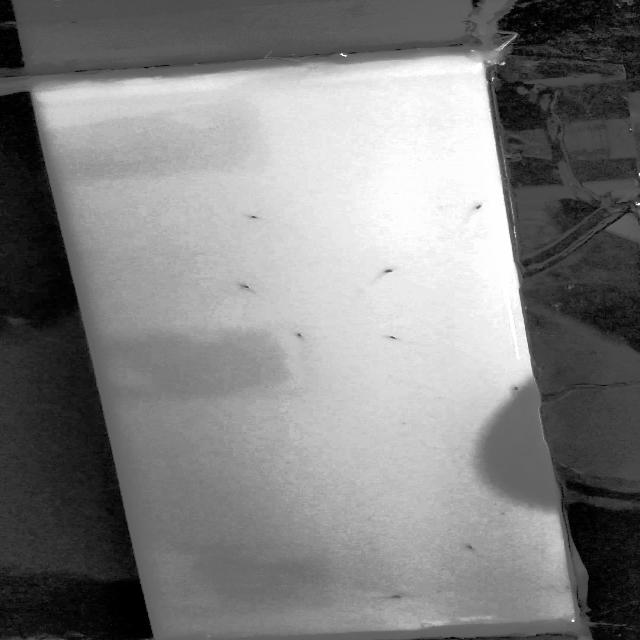shrimp: (239, 280, 270, 300), (367, 265, 401, 281), (452, 200, 485, 216), (374, 594, 418, 602), (288, 334, 314, 345), (248, 210, 270, 223), (375, 332, 402, 341), (462, 540, 480, 553), (504, 388, 520, 394)
